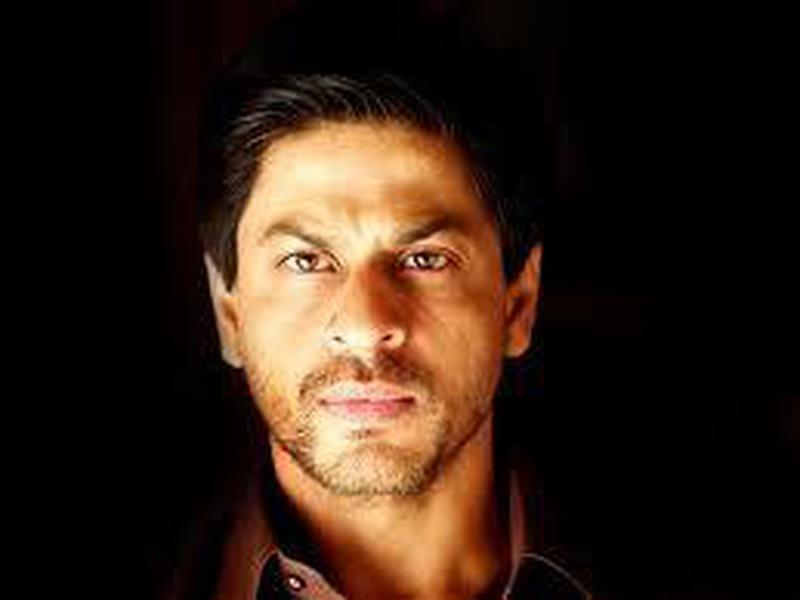without_mask: (233, 158, 497, 498)
